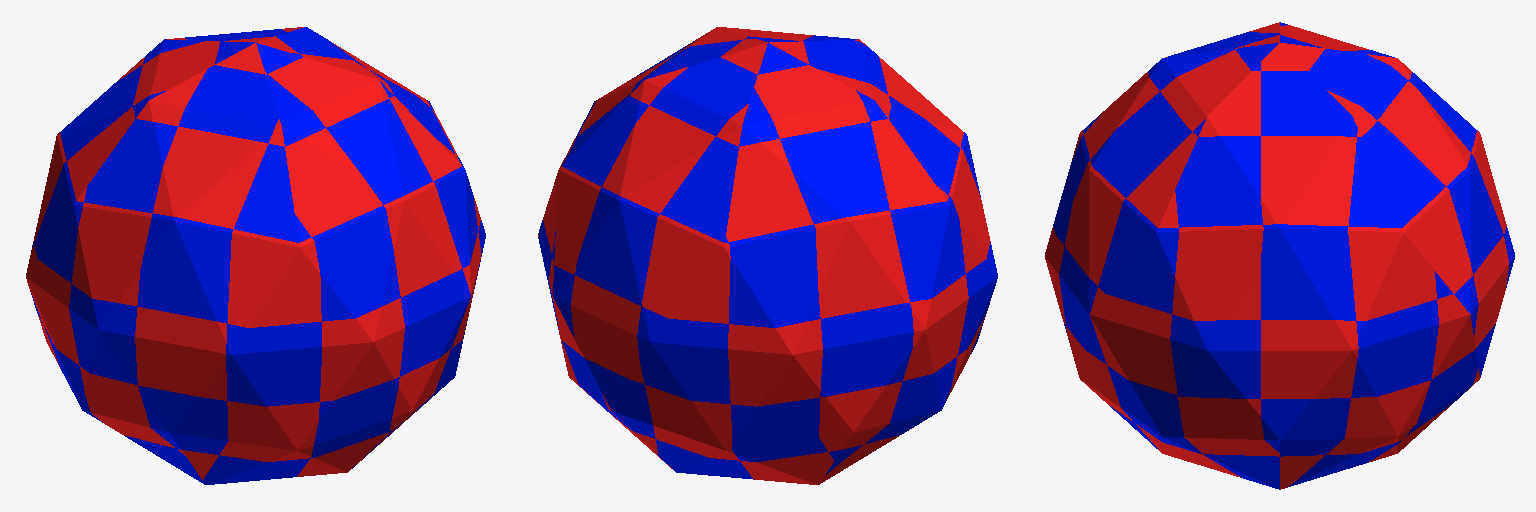
The picture shows the model from 3 angles: view 1: azimuth 30°, elevation 25°; view 2: azimuth 150°, elevation 25°; view 3: azimuth 270°, elevation 25°; orthographic projection.
Parts seen in each view (by area): view 1: ICO球; view 2: ICO球; view 3: ICO球.
Part boxes in pixels (x1,y1,x2,y2): ICO球: (26,27,485,484); ICO球: (538,27,997,484); ICO球: (1045,22,1514,489).
Size of the model in its own units: 1.9 by 2 by 2.
1 materials, 1 textured.